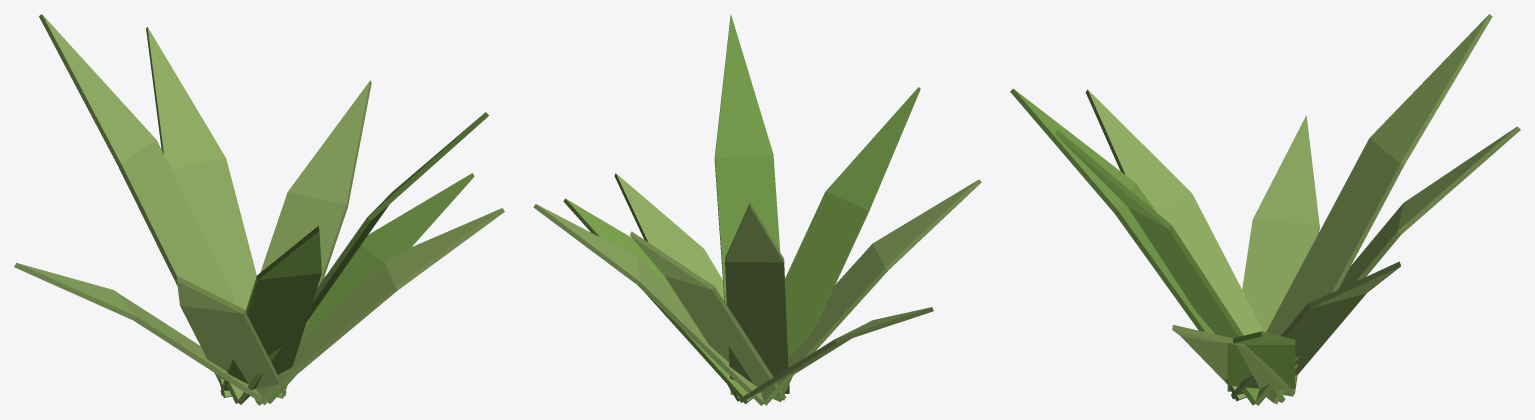
File: grass_clump.glb
The picture shows the model from 3 angles, left to right: view 1: azimuth 30°, elevation 25°; view 2: azimuth 150°, elevation 25°; view 3: azimuth 270°, elevation 25°; orthographic projection. The views are drawn at different scales.
Parts seen in each view (by area): view 1: grass_clump; view 2: grass_clump; view 3: grass_clump.
Part boxes in pixels (bbox=[...]): grass_clump: bbox=[14, 14, 504, 405]; grass_clump: bbox=[533, 15, 981, 405]; grass_clump: bbox=[1010, 14, 1520, 405].
Size of the model in its own units: 0.3969 by 0.2777 by 0.3924.
